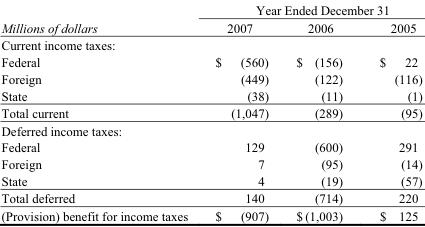table: (0, 1, 421, 223)
table column: (0, 1, 200, 223), (200, 1, 281, 223), (281, 1, 360, 223), (360, 1, 421, 223)
table column header: (0, 1, 421, 36)
table projected row header: (0, 36, 421, 53), (0, 121, 421, 138)
table row: (0, 18, 421, 36), (0, 103, 421, 121), (0, 1, 421, 18), (0, 36, 421, 53), (0, 53, 421, 70), (0, 86, 421, 103), (0, 121, 421, 138), (0, 138, 421, 155), (0, 155, 421, 172), (0, 172, 421, 189), (0, 189, 421, 206), (0, 206, 421, 223), (0, 70, 421, 86)
table spanning cell: (0, 1, 200, 36), (200, 1, 421, 18)
